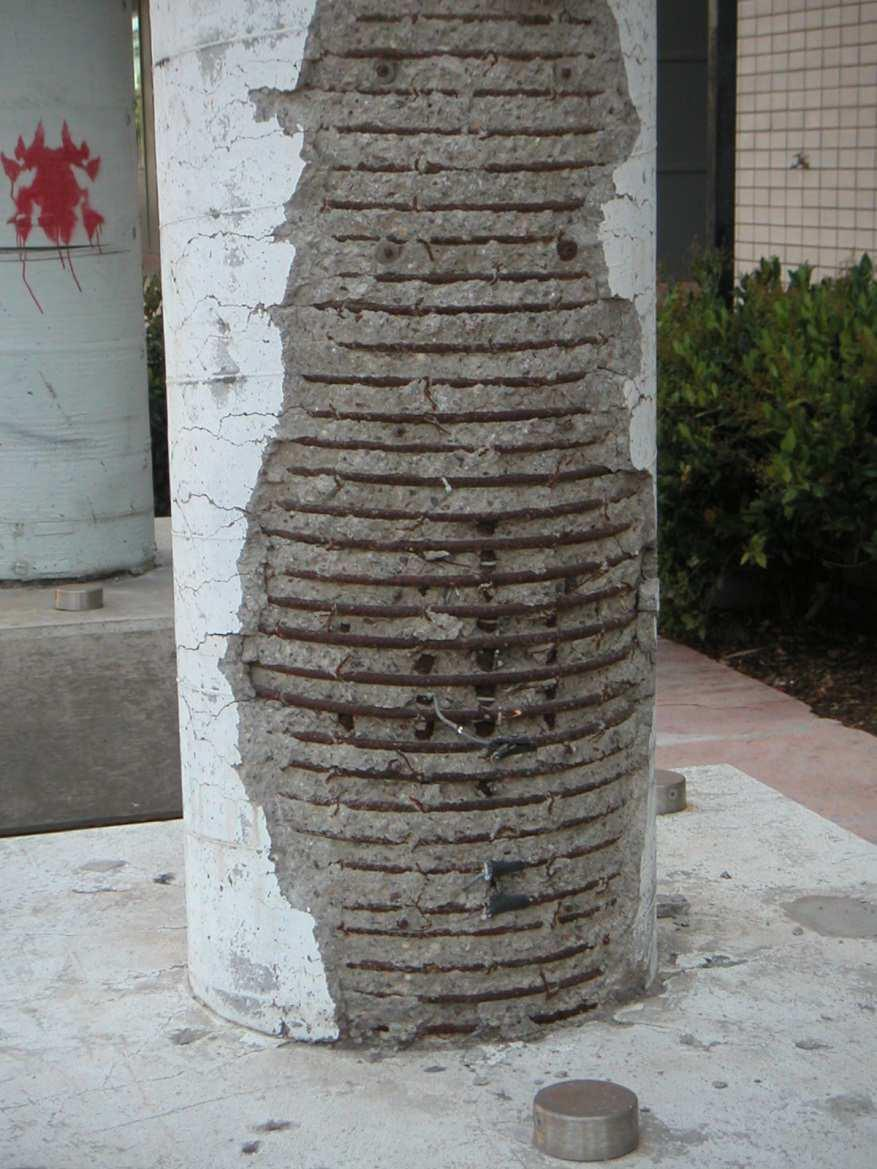exposed_rebar: (292, 702, 637, 760), (287, 748, 630, 788), (251, 650, 630, 685), (276, 777, 623, 815), (274, 614, 637, 648), (411, 797, 628, 851), (424, 835, 623, 879), (426, 874, 621, 917), (283, 562, 598, 588), (328, 524, 630, 551), (290, 466, 612, 491), (441, 687, 637, 724), (348, 943, 594, 970), (313, 406, 587, 430), (421, 968, 603, 1002), (285, 500, 603, 519), (450, 584, 630, 616), (256, 686, 434, 718), (345, 48, 598, 66), (340, 335, 600, 352), (315, 301, 600, 314), (267, 596, 422, 618), (339, 922, 546, 938), (283, 436, 475, 451), (377, 272, 582, 285), (432, 196, 587, 212), (429, 372, 584, 388), (356, 14, 553, 25), (336, 119, 463, 136), (298, 828, 404, 844), (484, 160, 596, 174), (530, 1002, 596, 1025), (474, 87, 605, 98), (429, 233, 555, 244), (495, 440, 600, 453), (557, 900, 616, 922), (304, 376, 411, 387), (356, 86, 458, 96), (490, 127, 601, 136), (265, 531, 329, 545), (326, 201, 413, 210), (342, 862, 412, 872), (356, 162, 413, 174), (421, 1025, 475, 1037), (420, 162, 463, 175), (349, 902, 404, 912), (333, 233, 379, 241), (559, 16, 591, 25)
spalling: (217, 0, 659, 1053)
